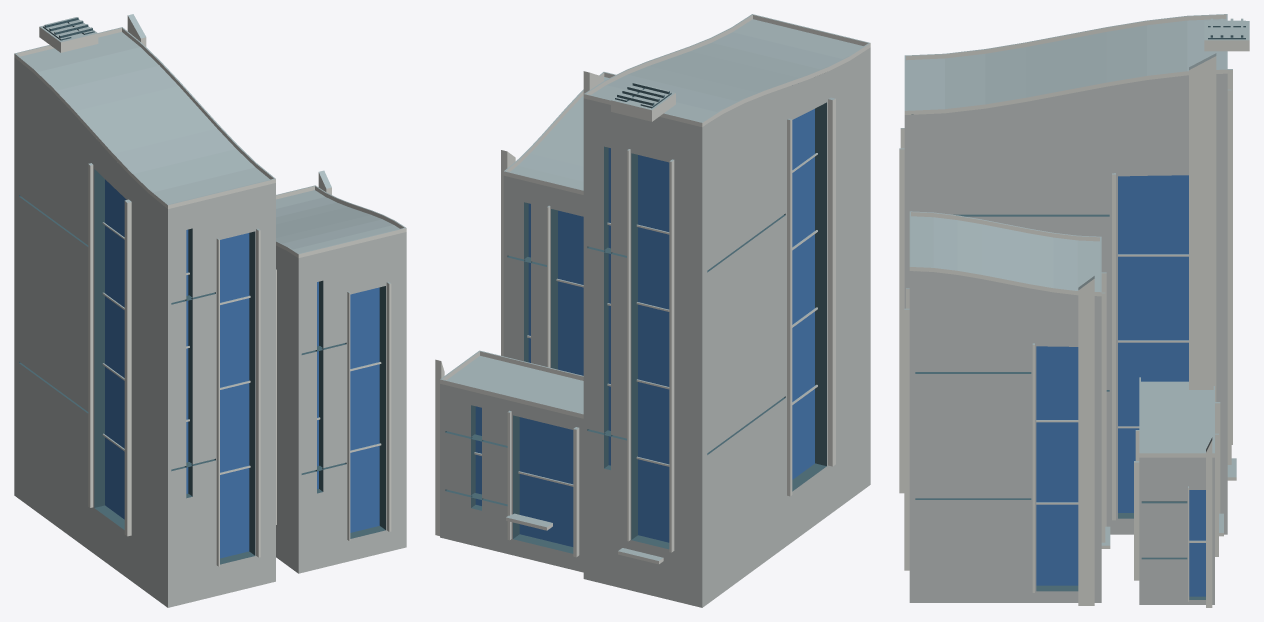
The model's file is 02_Doppelfluegel.obj.
The picture shows the model from 3 angles, left to right: view 1: azimuth 30°, elevation 25°; view 2: azimuth 150°, elevation 25°; view 3: azimuth 270°, elevation 25°; orthographic projection. The views are drawn at different scales.
Size of the model in its own units: 0.5833 by 1 by 0.6593.
